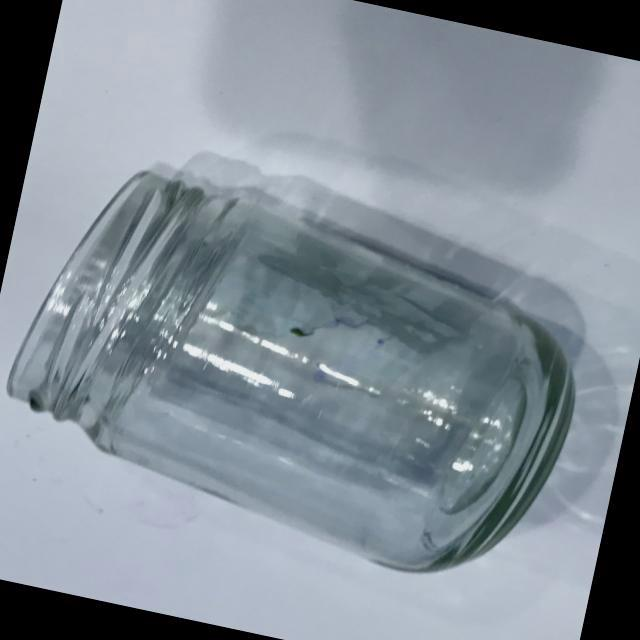glass: (0, 141, 609, 612)
